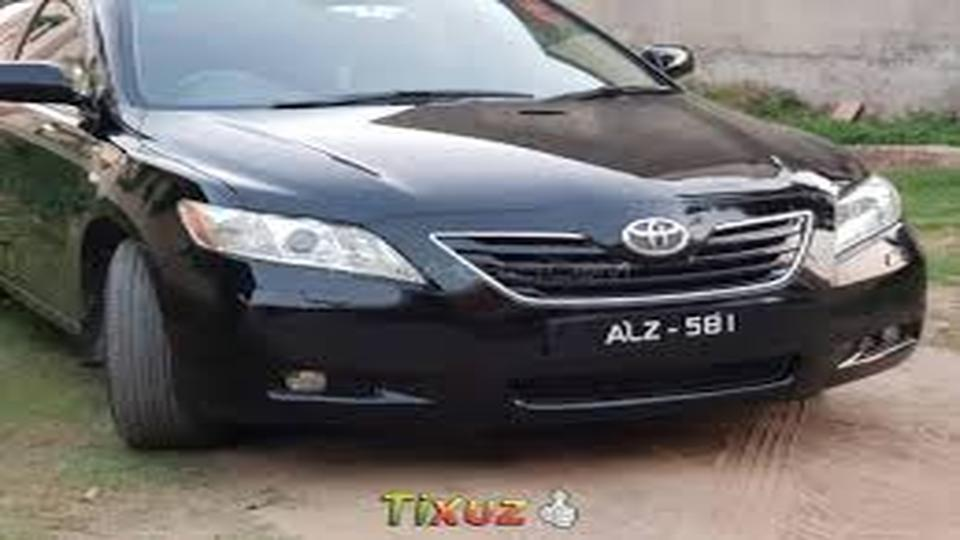NumberPlate: (594, 314, 747, 357)
